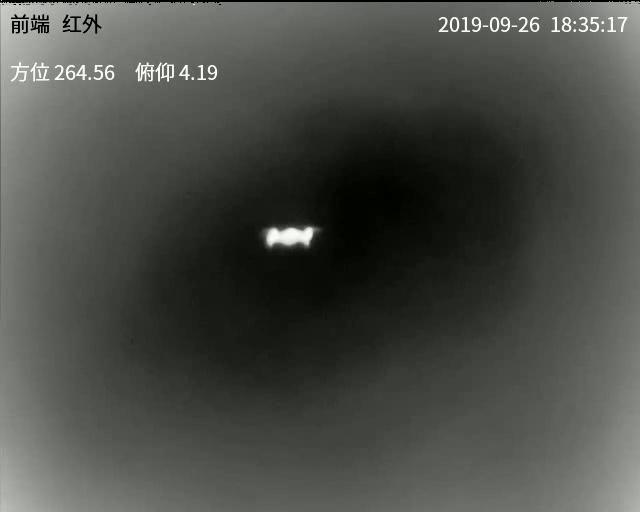DRONE: (264, 226, 315, 248)
